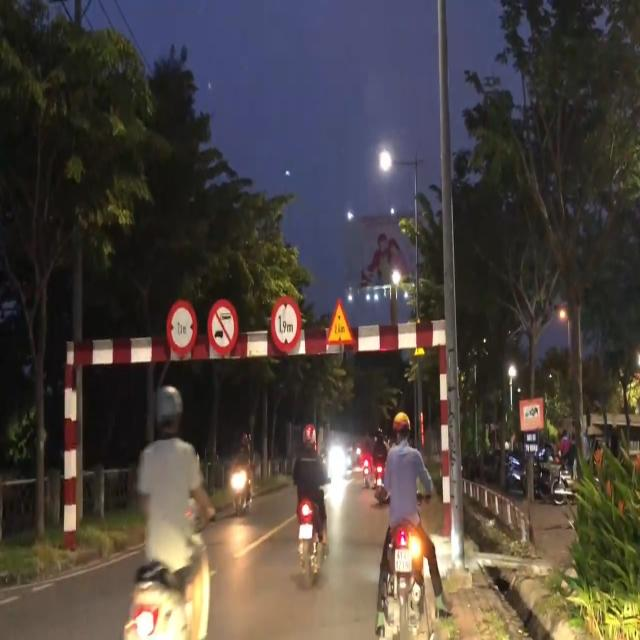Bien bao cam xe oto khach va xe oto tai: (208, 296, 241, 363)
Bien bao chieu cao tinh khong thuc te: (324, 296, 355, 356)
Bien bao han che chieu cao: (270, 290, 302, 356)
